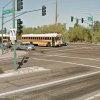Traffic light: (9, 0, 56, 42)
